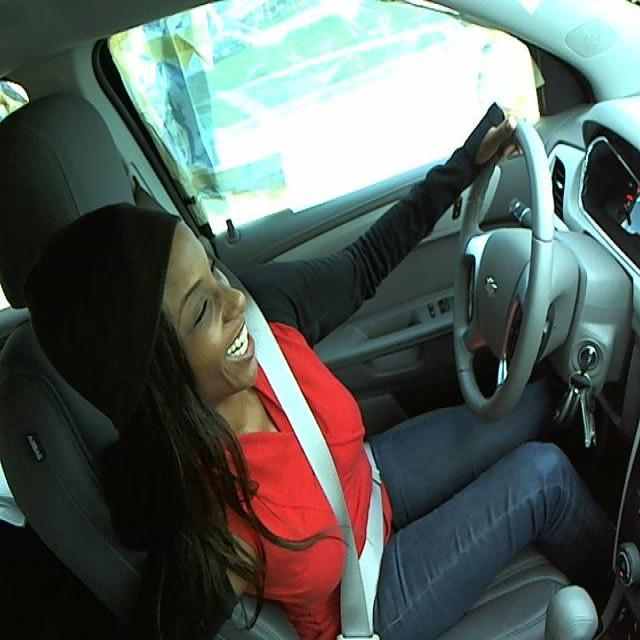seatbelt: (255, 345, 395, 636)
